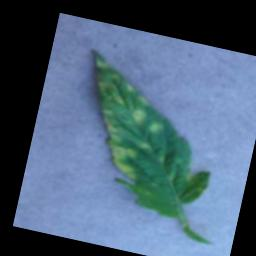Leaf_Mold: (87, 50, 161, 110), (92, 113, 148, 181), (130, 107, 150, 129), (148, 120, 166, 135)
